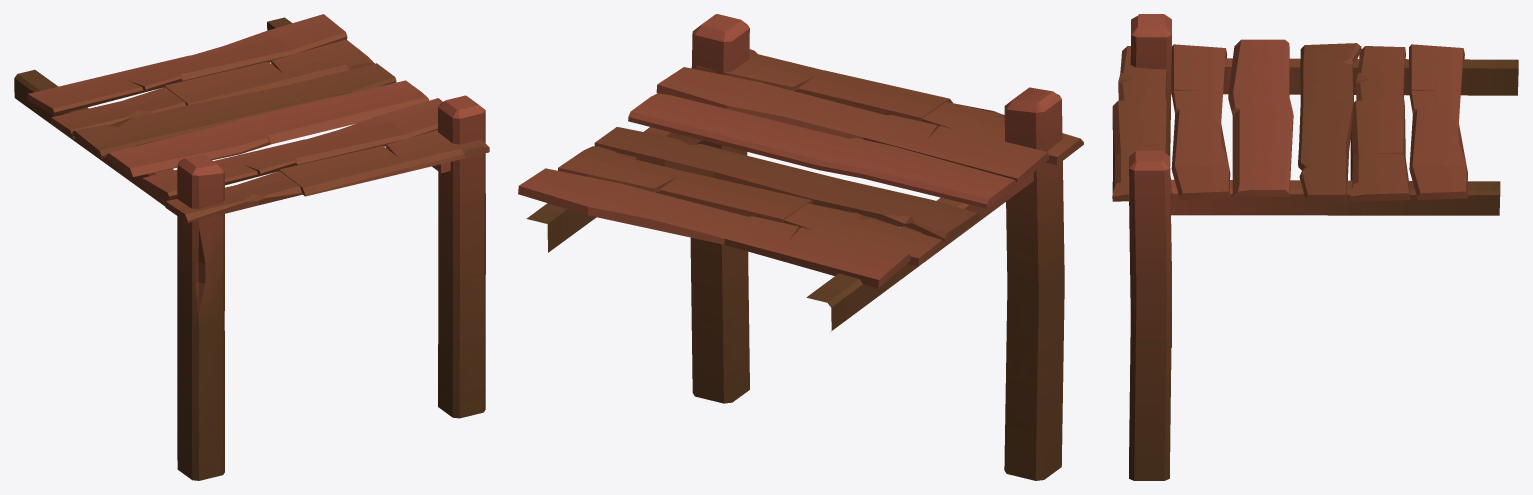
3 views of the same model, side by side, from view 1: azimuth 30°, elevation 25°; view 2: azimuth 150°, elevation 25°; view 3: azimuth 270°, elevation 25° (orthographic). The views are drawn at different scales.
Parts seen in each view (by area): view 1: PierTile; view 2: PierTile; view 3: PierTile.
Boxes of the visible parts, left/top/right/bottom form: PierTile: left=14, top=14, right=489, bottom=480; PierTile: left=518, top=14, right=1083, bottom=480; PierTile: left=1112, top=14, right=1518, bottom=480.
Bounding box in the file's own units: 77.1 × 75 × 85.77.
1 material, 1 textured.
